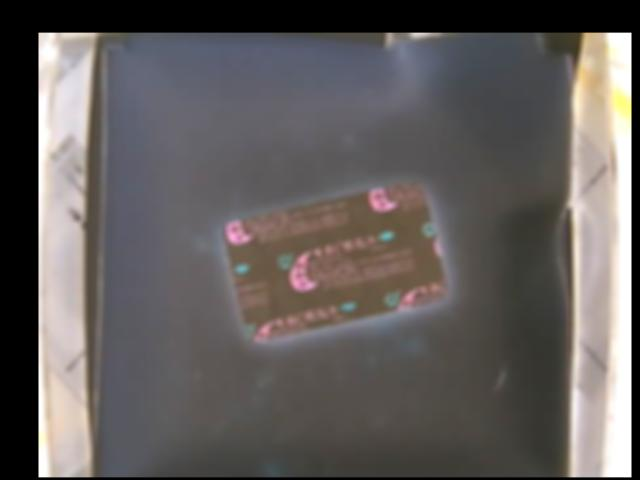Medicine: (224, 180, 448, 343)
